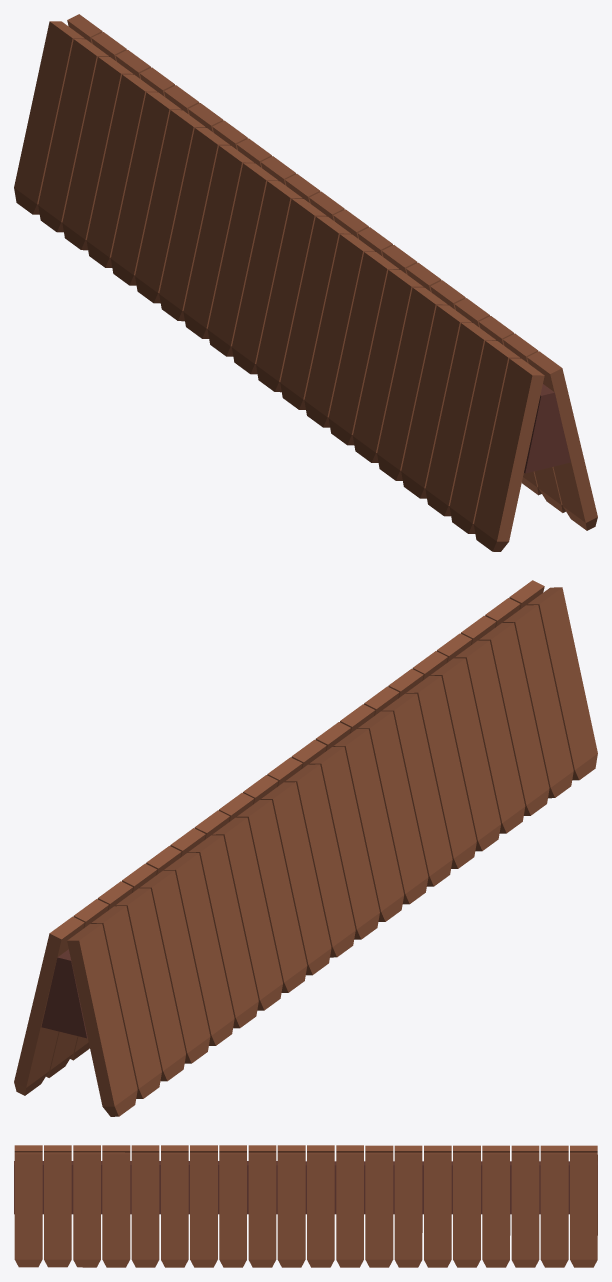
Rendered from gate roof.fbx.
3 views of the same model, one above another, from view 1: azimuth 30°, elevation 25°; view 2: azimuth 150°, elevation 25°; view 3: azimuth 270°, elevation 25° (orthographic). The views are drawn at different scales.
Parts seen in each view (by area): view 1: roof; view 2: roof; view 3: roof.
Part boxes in pixels (x1,y1,x2,y2): roof: (14,14,597,551); roof: (14,580,597,1116); roof: (14,1145,597,1267).
Size of the model in its own units: 293 by 467 by 2379.
